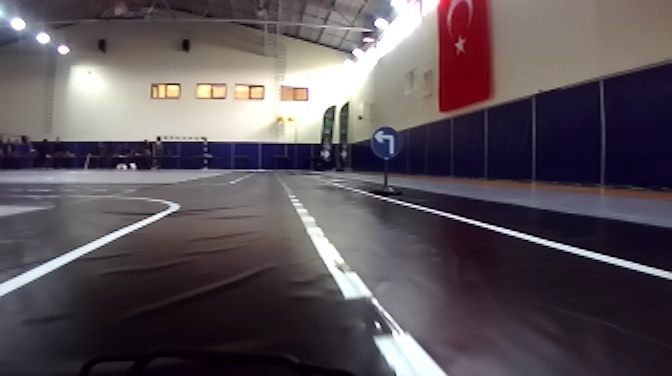sola_donus: (364, 123, 404, 158)
